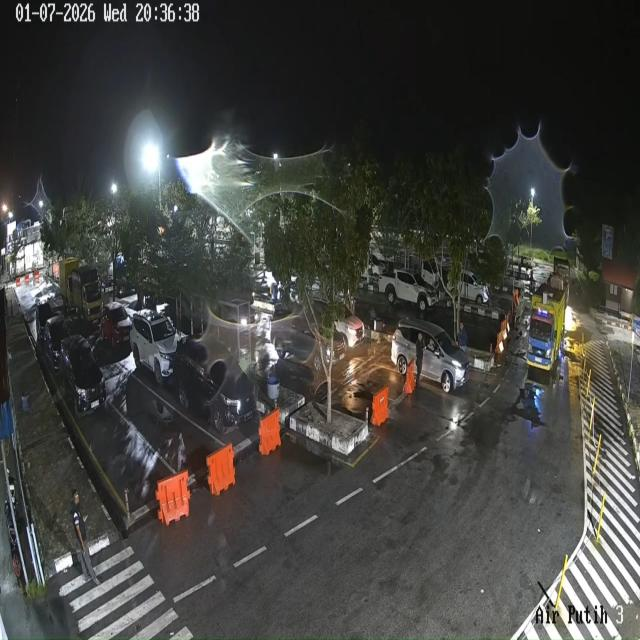Golongan IVA: (174, 333, 256, 432), (391, 318, 470, 394), (267, 303, 346, 373), (59, 335, 106, 417), (129, 309, 178, 385), (313, 298, 364, 349), (100, 301, 132, 347), (43, 316, 70, 370), (35, 301, 53, 344)
Golongan IVB: (378, 270, 438, 311)
Golongan VB: (527, 276, 568, 371), (59, 257, 102, 322)
